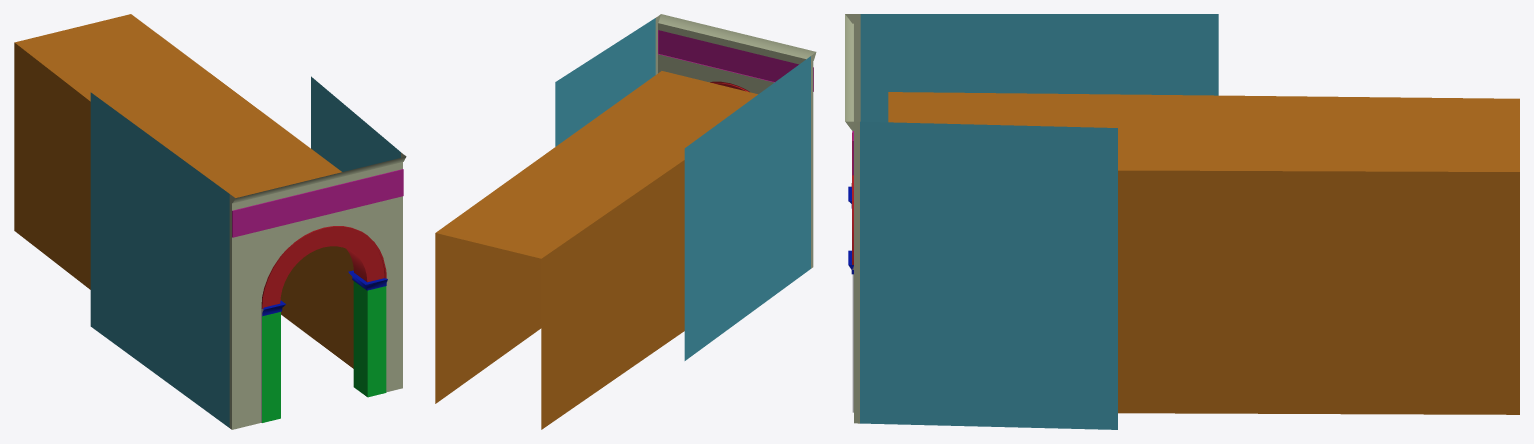
File: Aditus_Porte_Principale.fbx
The picture shows the model from 3 angles, left to right: view 1: azimuth 30°, elevation 25°; view 2: azimuth 150°, elevation 25°; view 3: azimuth 270°, elevation 25°; orthographic projection. The views are drawn at different scales.
Visible parts, largest first — view 1: Aditus_Maximus.002; view 2: Aditus_Maximus.002; view 3: Aditus_Maximus.002.
Part boxes in pixels (x1,y1,x2,y2): Aditus_Maximus.002: [14, 14, 406, 429]; Aditus_Maximus.002: [435, 14, 816, 429]; Aditus_Maximus.002: [845, 14, 1519, 429].
Bounding box in the file's own units: 640 × 790 × 1600.
